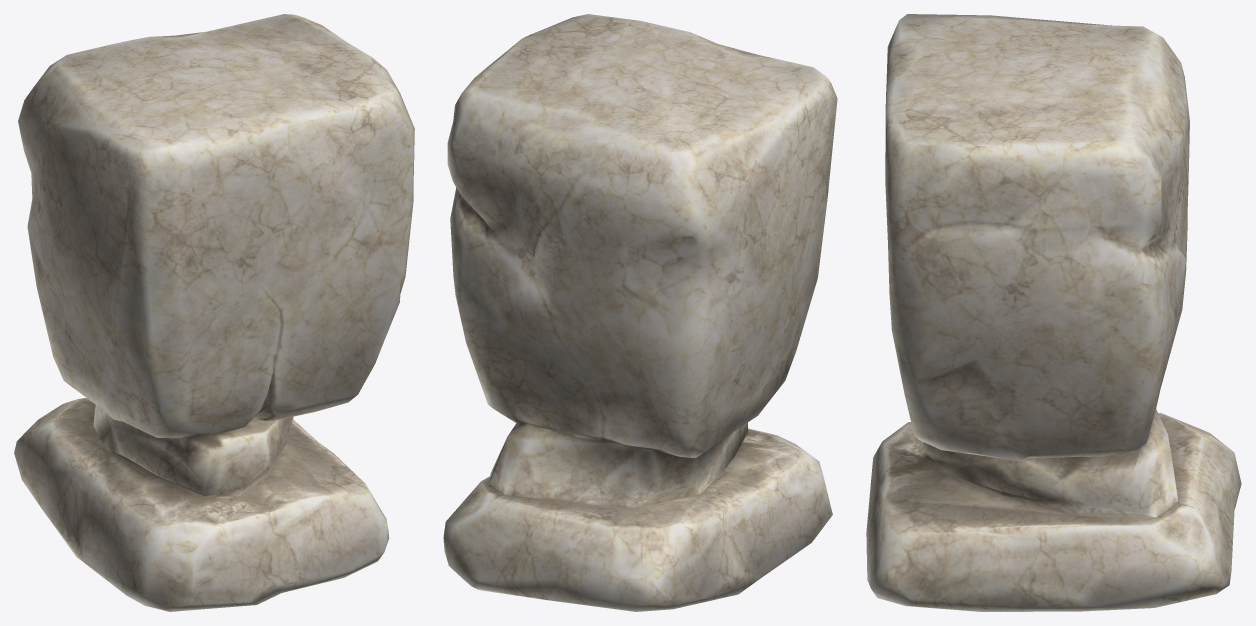
File: SM_StoneNode_4.fbx
3 views of the same model, side by side, from view 1: azimuth 30°, elevation 25°; view 2: azimuth 150°, elevation 25°; view 3: azimuth 270°, elevation 25° (orthographic). The views are drawn at different scales.
Visible parts, largest first — view 1: SM_StoneNode_4_LOD0; view 2: SM_StoneNode_4_LOD0; view 3: SM_StoneNode_4_LOD0.
Part boxes in pixels (x1,y1,x2,y2): SM_StoneNode_4_LOD0: (14,14,414,611); SM_StoneNode_4_LOD0: (443,14,837,611); SM_StoneNode_4_LOD0: (866,14,1241,611).
Size of what is drawn, in the model's own units: 0.8596 by 1.34 by 0.9154.
